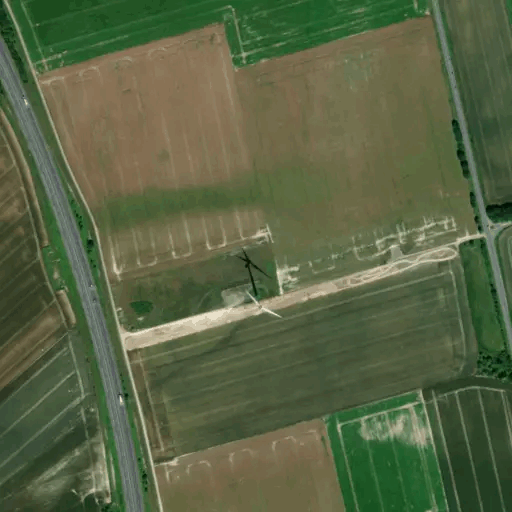wt: (230, 245, 284, 325)
